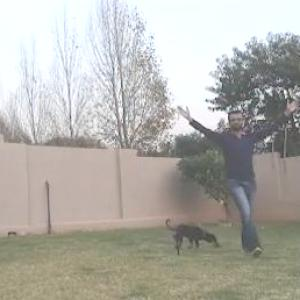takeoff: (165, 101, 295, 254)
